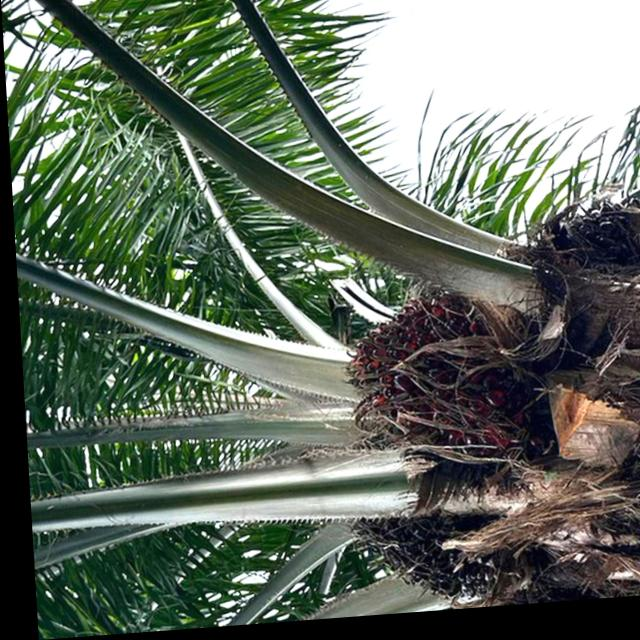ripe: (334, 293, 492, 428), (350, 507, 489, 613)
